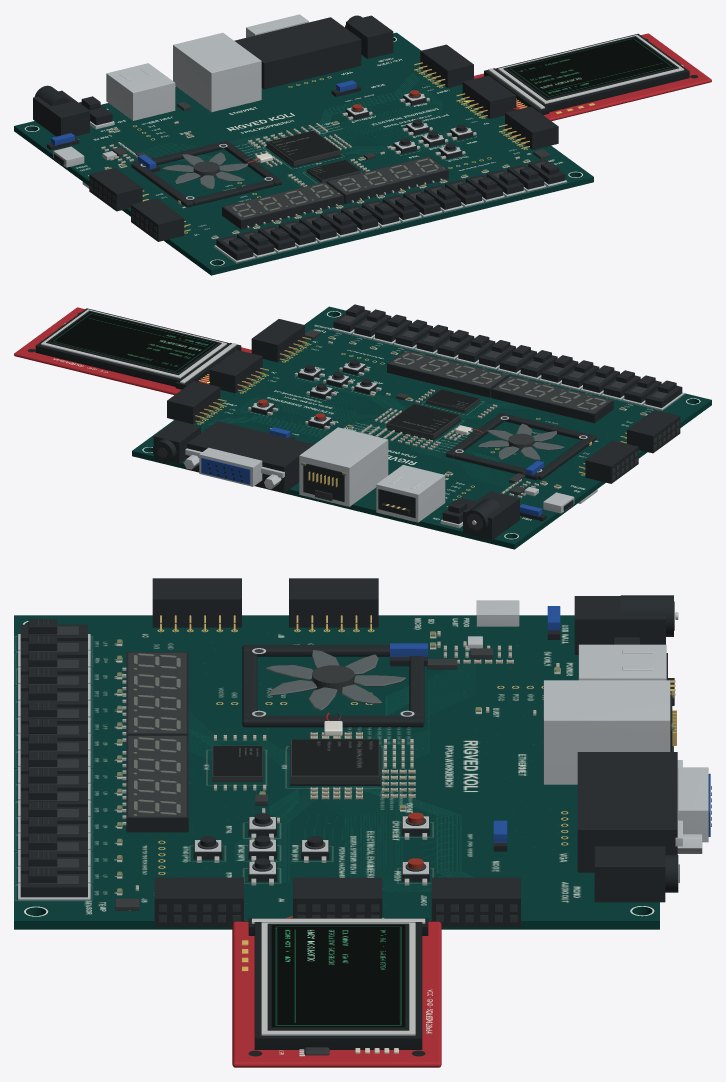
File: nexys4-ddr.glb
The picture shows the model from 3 angles, top to bottom: view 1: azimuth 30°, elevation 25°; view 2: azimuth 150°, elevation 25°; view 3: azimuth 270°, elevation 25°; orthographic projection. The views are drawn at different scales.
Visible parts, largest first — view 1: Static_Solder_mask_deep_teal, Static_Connector_black_PBT, Static_Nickel_connector_shell, Static_Matte_IC_epoxy, OLED_SCREEN, Static_OLED_PBT_bezel, Static_OLED_red_FR4, Static_Tin_solder, Static_OLED_tin_plating, Static_Artix7_marking_laser_mark, Static_Gold_contacts, Static_MLCC_ceramic (+6 smaller); view 2: Static_Solder_mask_deep_teal, Static_Connector_black_PBT, Static_Nickel_connector_shell, Static_Matte_IC_epoxy, OLED_SCREEN, Static_OLED_PBT_bezel, Static_OLED_red_FR4, Static_OLED_tin_plating, Static_Tin_solder, Static_Jumper_blue, Static_Artix7_marking_laser_mark, Static_Gold_contacts (+6 smaller); view 3: Static_Solder_mask_deep_teal, Static_Connector_black_PBT, Static_Nickel_connector_shell, Static_Matte_IC_epoxy, OLED_SCREEN, Static_OLED_red_FR4, Static_OLED_PBT_bezel, Static_OLED_tin_plating, Static_Tin_solder, Static_Artix7_marking_laser_mark, CoolingFan_Frame_Right, Static_MLCC_ceramic (+7 smaller).
Part boxes in pixels (bbox=[...]): Static_Solder_mask_deep_teal: bbox=[14, 32, 593, 275]; Static_Connector_black_PBT: bbox=[33, 15, 565, 260]; Static_Nickel_connector_shell: bbox=[53, 14, 567, 262]; Static_Matte_IC_epoxy: bbox=[90, 93, 557, 251]; OLED_SCREEN: bbox=[507, 37, 675, 97]; Static_OLED_PBT_bezel: bbox=[484, 33, 698, 114]; Static_OLED_red_FR4: bbox=[474, 33, 711, 121]; Static_Tin_solder: bbox=[101, 94, 530, 239]; Static_OLED_tin_plating: bbox=[488, 34, 684, 109]; Static_Artix7_marking_laser_mark: bbox=[268, 131, 338, 160]; Static_Gold_contacts: bbox=[133, 62, 529, 233]; Static_MLCC_ceramic: bbox=[101, 121, 519, 186]; Static_Solder_mask_deep_teal: bbox=[132, 306, 711, 549]; Static_Connector_black_PBT: bbox=[152, 309, 682, 540]; Static_Nickel_connector_shell: bbox=[184, 327, 684, 528]; Static_Matte_IC_epoxy: bbox=[157, 311, 679, 530]; OLED_SCREEN: bbox=[49, 311, 217, 372]; Static_OLED_PBT_bezel: bbox=[27, 308, 241, 389]; Static_OLED_red_FR4: bbox=[14, 307, 251, 394]; Static_OLED_tin_plating: bbox=[41, 309, 236, 383]; Static_Tin_solder: bbox=[248, 337, 647, 498]; Static_Jumper_blue: bbox=[201, 427, 543, 516]; Static_Artix7_marking_laser_mark: bbox=[387, 404, 458, 434]; Static_Gold_contacts: bbox=[195, 337, 626, 509]; Static_Solder_mask_deep_teal: bbox=[14, 615, 659, 929]; Static_Connector_black_PBT: bbox=[20, 578, 711, 926]; Static_Nickel_connector_shell: bbox=[18, 600, 708, 900]; Static_Matte_IC_epoxy: bbox=[29, 601, 679, 922]; OLED_SCREEN: bbox=[271, 925, 405, 1027]; Static_OLED_red_FR4: bbox=[232, 921, 441, 1067]; Static_OLED_PBT_bezel: bbox=[248, 918, 428, 1056]; Static_OLED_tin_plating: bbox=[251, 918, 425, 1056]; Static_Tin_solder: bbox=[117, 631, 560, 910]; Static_Artix7_marking_laser_mark: bbox=[292, 739, 378, 775]; CoolingFan_Frame_Right: bbox=[242, 715, 424, 727]; Static_MLCC_ceramic: bbox=[135, 631, 559, 890].
Size of the model in its own units: 18.46 by 1.49 by 11.77.
Materials: 25 (4 with a texture image).
